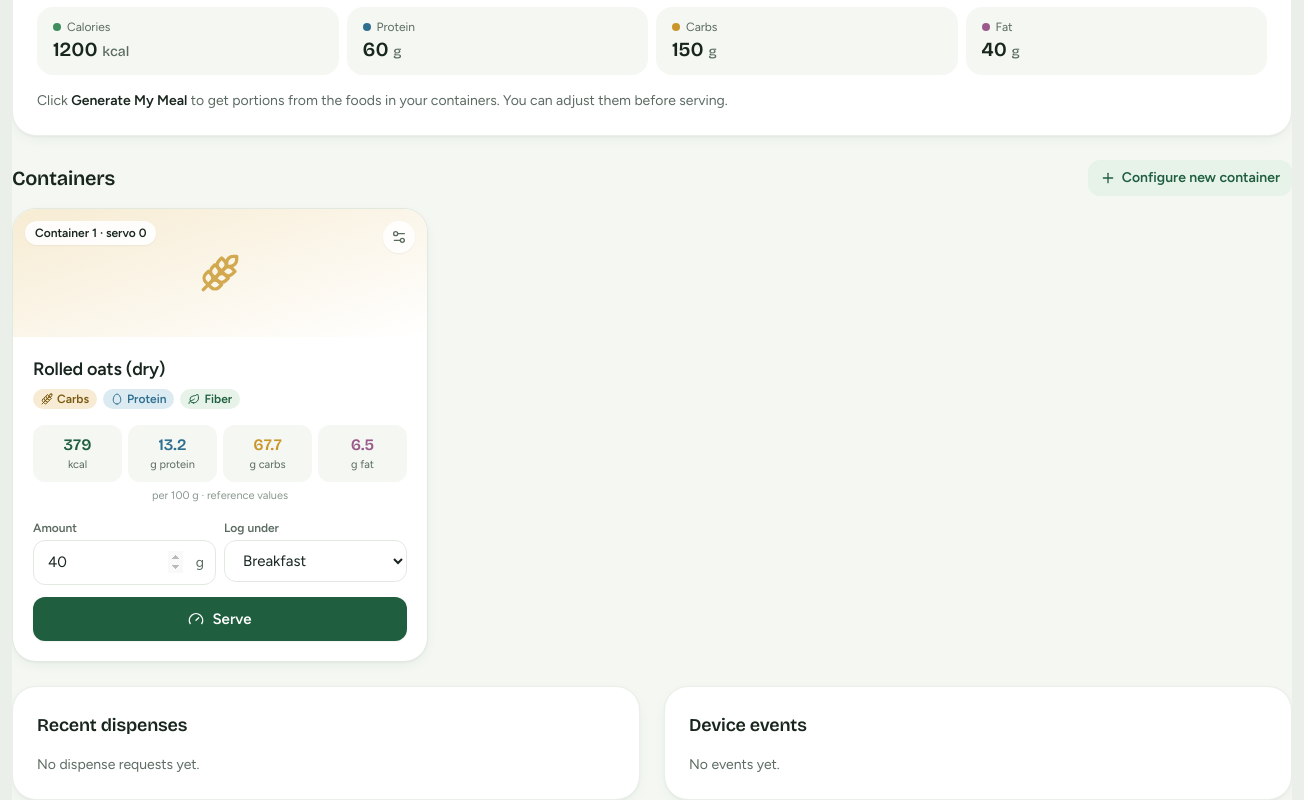
Smart Dispenser page › shows a server rejection as a toast
The width and height of the screenshot is (1304, 800).
(page scrolled)
Click the button with aria-label "Serve Rolled oats (dry)": (220, 619) [33,597,407,641]
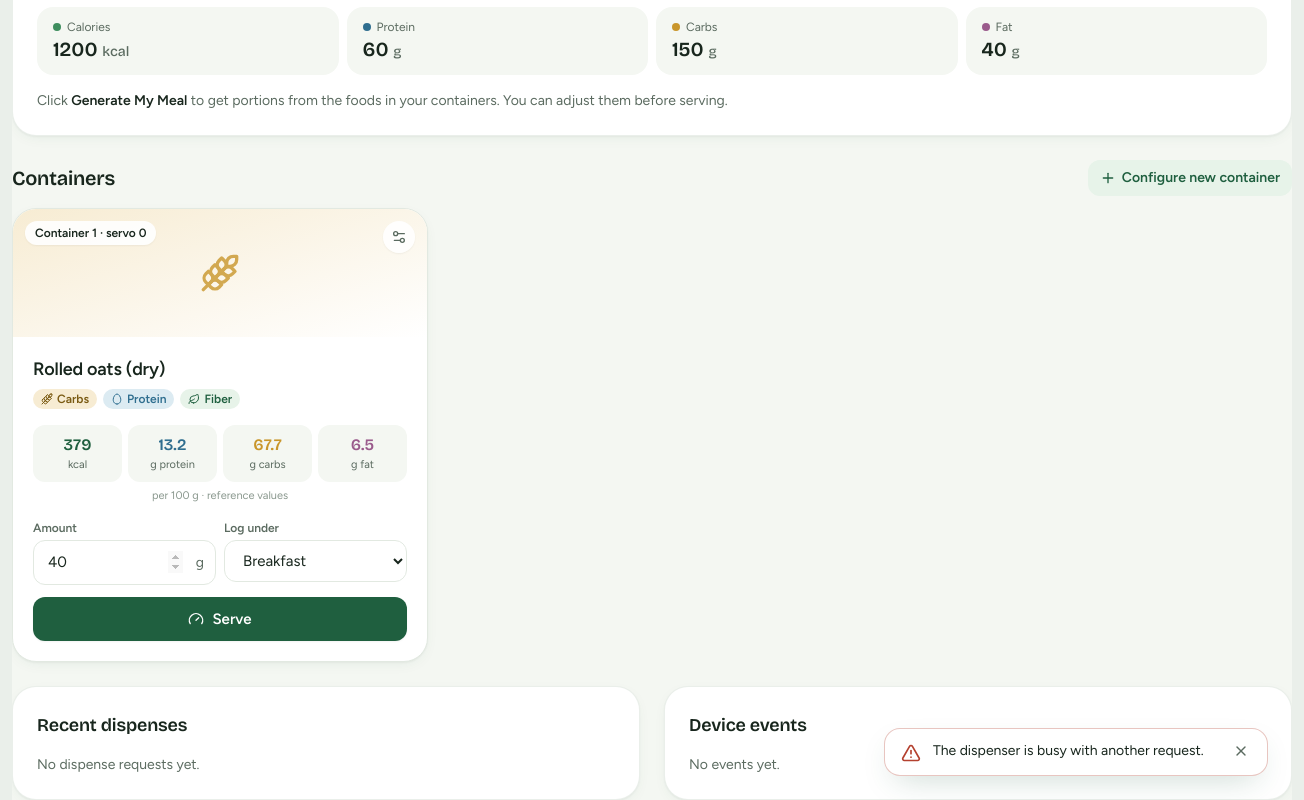
Now the text "The dispenser is busy with another request." is shown, box [933,741,1219,761]
